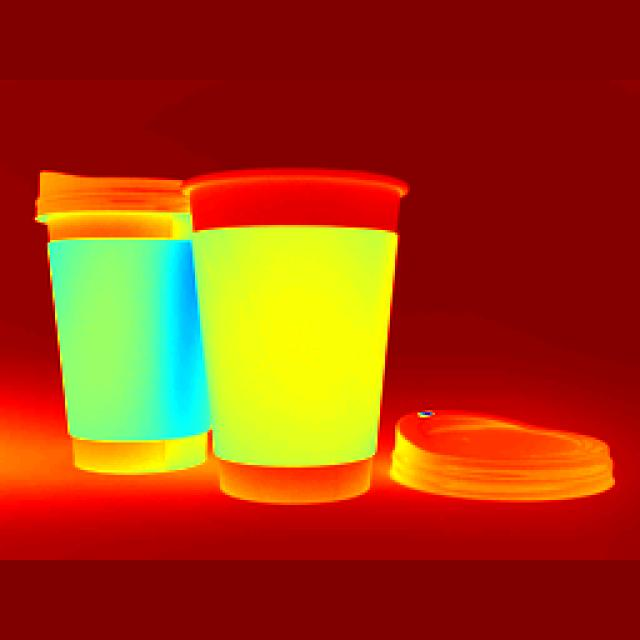Paper Cups: (174, 152, 391, 505), (25, 165, 226, 468)
